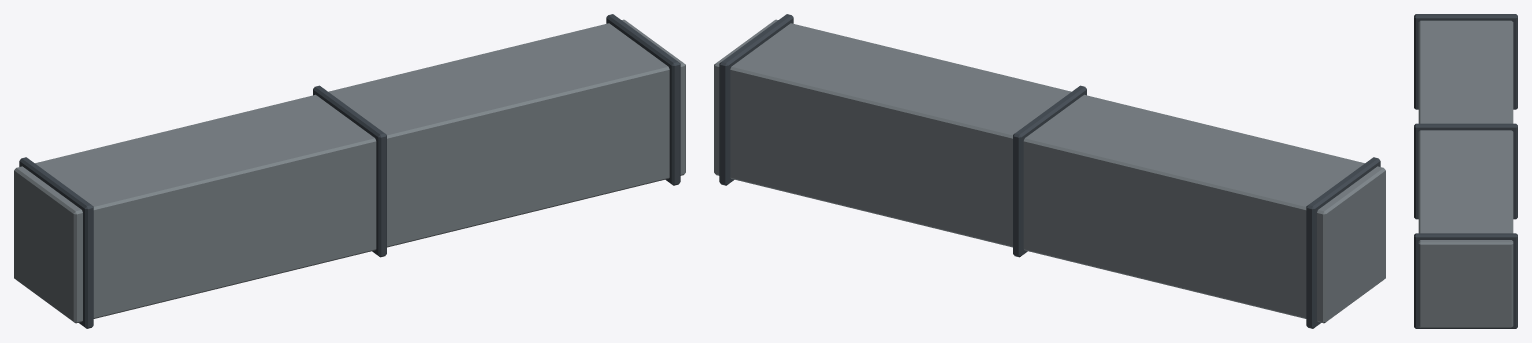
The model's file is VentDuctStraight.fbx.
The picture shows the model from 3 angles, left to right: view 1: azimuth 30°, elevation 25°; view 2: azimuth 150°, elevation 25°; view 3: azimuth 270°, elevation 25°; orthographic projection. The views are drawn at different scales.
Visible parts, largest first — view 1: VentDuctStraight; view 2: VentDuctStraight; view 3: VentDuctStraight.
Boxes of the visible parts, left/top/right/bottom form: VentDuctStraight: left=14, top=14, right=685, bottom=328; VentDuctStraight: left=714, top=14, right=1385, bottom=328; VentDuctStraight: left=1414, top=14, right=1517, bottom=328.
Size of the model in its own units: 240 by 46 by 46.
1 material, 1 textured.
